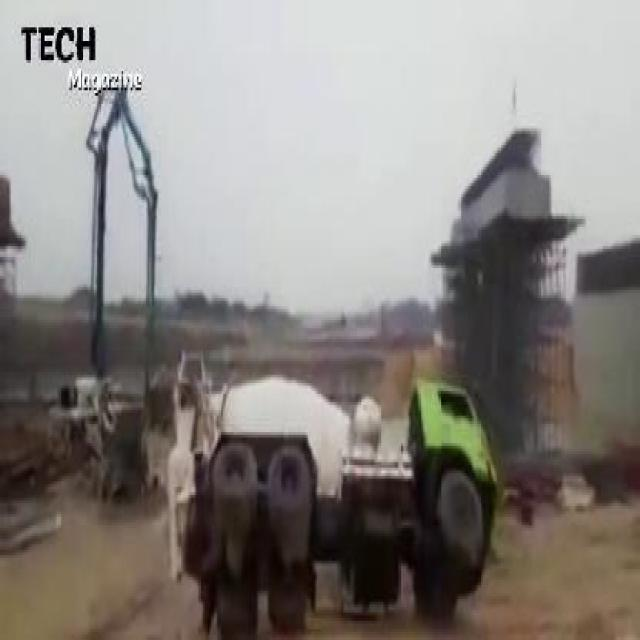accident: (163, 336, 502, 640)
